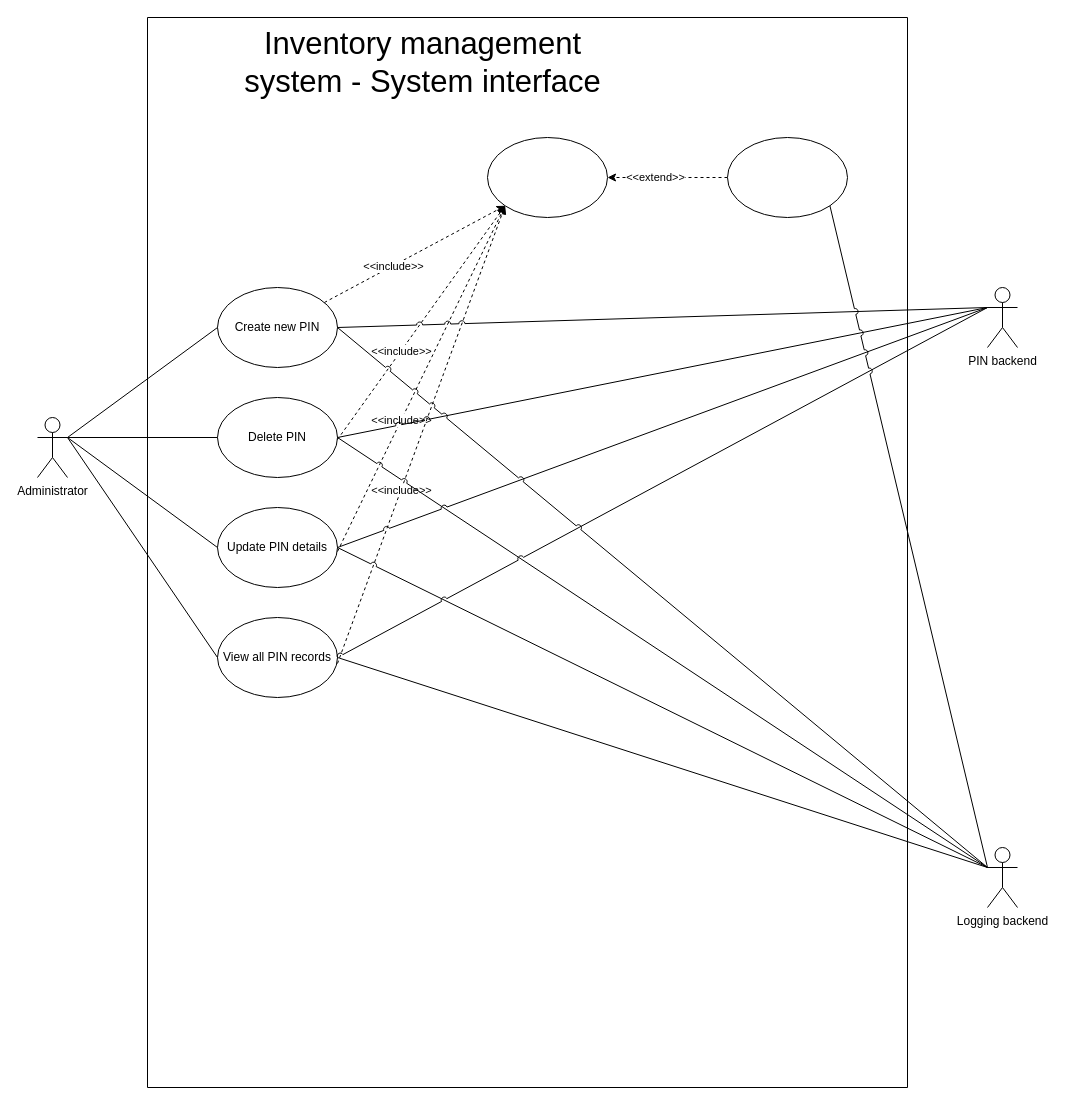
This 1065x1105 diagram has some shape labels left out. Here are the shapes that lost their labels. From the top down, the box of each, then its label:
(486, 136, 608, 218): Verify user PIN is valid and is an administrator
(726, 136, 848, 218): Invalid PIN/Insufficient authority
